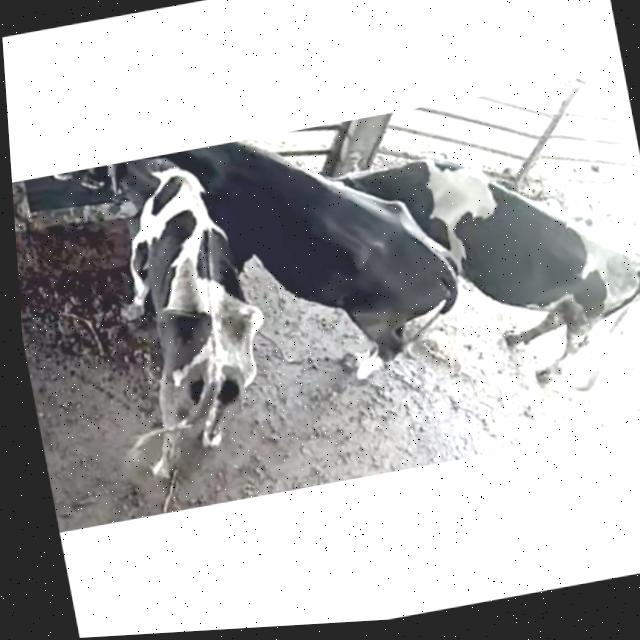drink: (128, 138, 261, 207)
